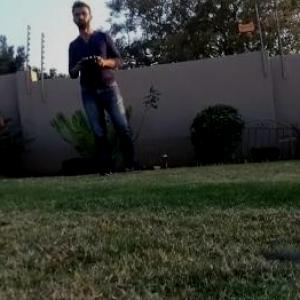follow: (64, 0, 149, 181)
